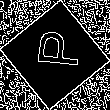P_W: (28, 34, 82, 76)
